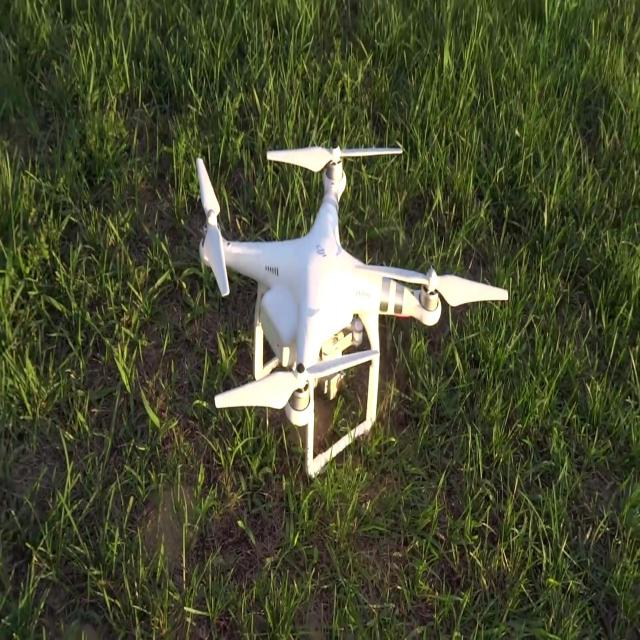Drone_FW: (195, 137, 509, 482)
